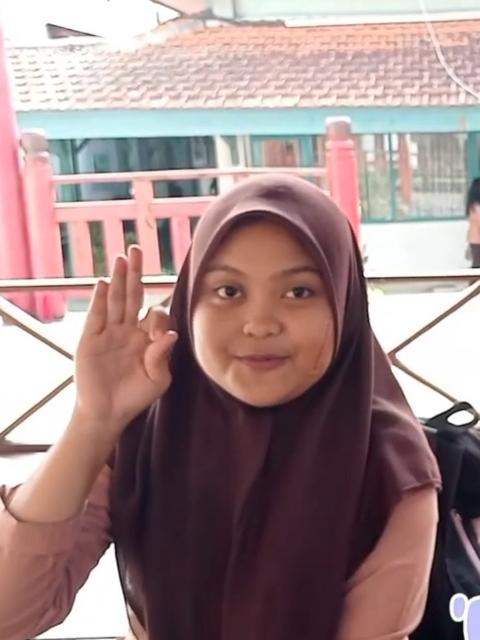F: (76, 240, 178, 412)
